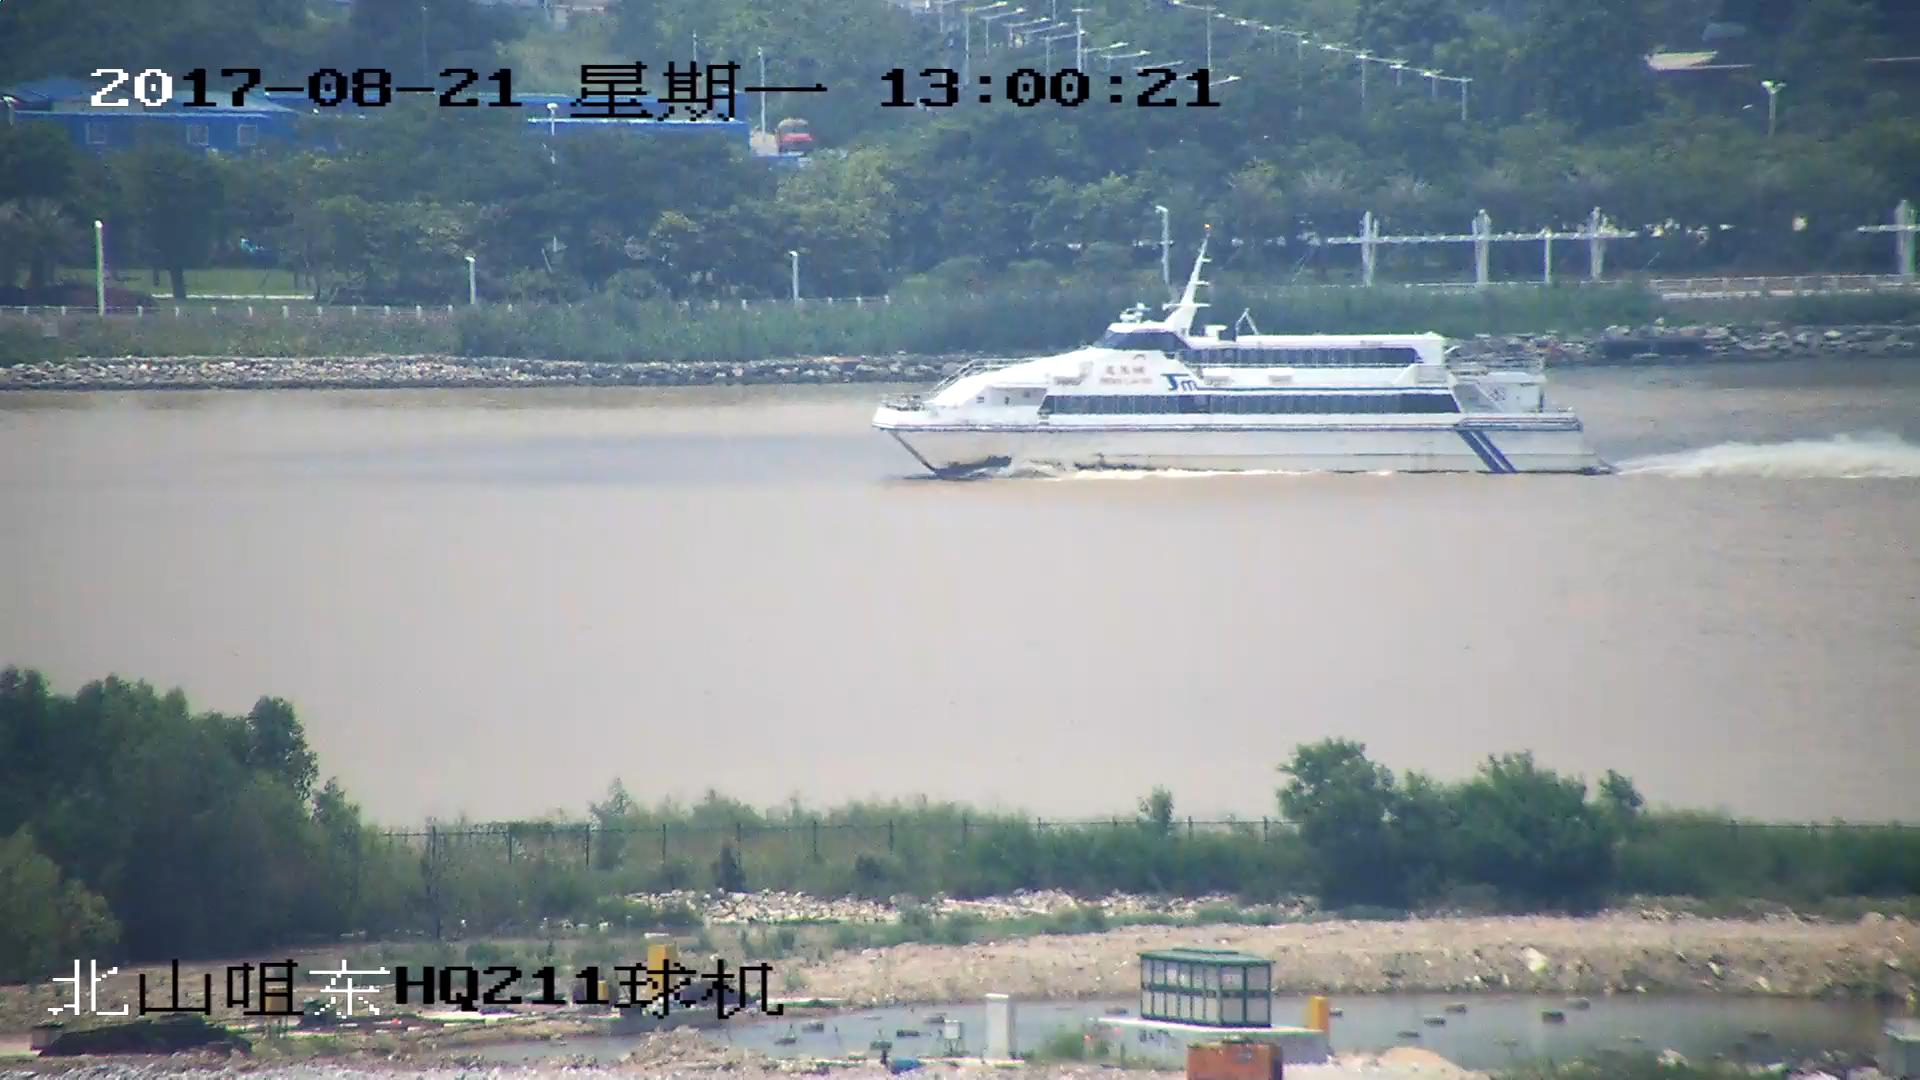passenger ship: (870, 237, 1614, 481)
